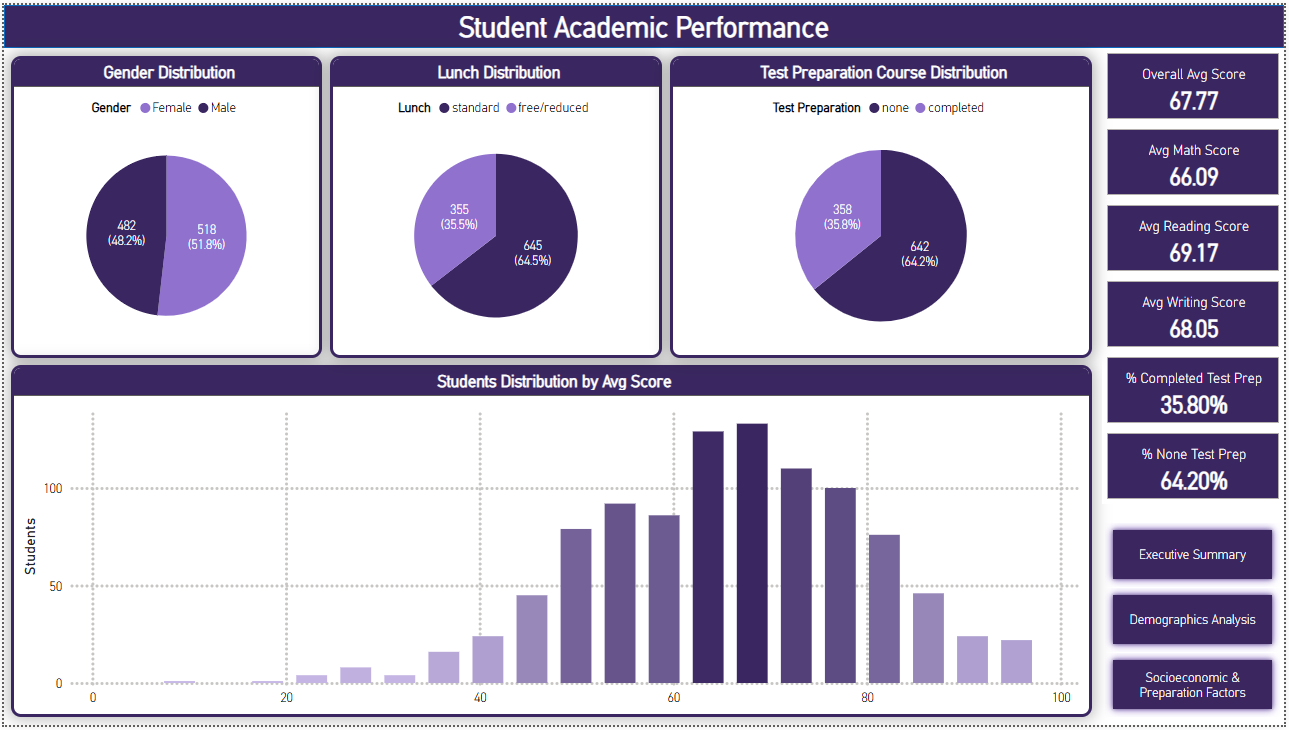

This screenshot's page, from the dashboard's own definition file:
{"tool":"powerbi","page":{"name":"Executive Summary","canvas":[1280,720],"ordinal":0},"visuals":[{"type":"shape","box":[0,0,1280,43],"z":0},{"type":"textbox","box":[426,0,428,43],"z":1000},{"type":"pieChart","title":"Gender Distribution","fields":{"Category":["StudentsPerformance.Gender"],"Y":["CountNonNull(StudentsPerformance.Gender)"]},"box":[7,51,311,302],"z":2000},{"type":"clusteredColumnChart","title":"Students Distribution by Avg Score ","fields":{"Category":["StudentsPerformance.Average Score (bins)"],"Y":["CountNonNull(StudentsPerformance.Gender)"]},"box":[7,360,1081,352],"z":3000},{"type":"cardVisual","fields":{"Data":["Avg(StudentsPerformance.Average Score)","Avg(StudentsPerformance.Math score)","Avg(StudentsPerformance.Reading score)","Avg(StudentsPerformance.Writing score)","StudentsPerformance.% Completed Test Prep","StudentsPerformance.% None Test Prep"]},"box":[1098,43,182,456],"z":8000},{"type":"pieChart","title":"Lunch Distribution","fields":{"Category":["StudentsPerformance.Lunch"],"Y":["CountNonNull(StudentsPerformance.Lunch)"]},"box":[326,51,332,302],"z":9000},{"type":"pieChart","title":"Test Preparation Course Distribution","fields":{"Category":["StudentsPerformance.Test preparation course"],"Y":["CountNonNull(StudentsPerformance.Test preparation course)"]},"box":[666,51,422,302],"z":10000},{"type":"actionButton","box":[1101,647,175,65],"z":10001},{"type":"actionButton","box":[1101,582,175,65],"z":10002},{"type":"actionButton","box":[1101,517,175,65],"z":10003}]}

Visuals, with their boxes in screenshot pixels (x1, y1, x2, y2), scaled from the page's 1280x720 canvas onto the 1289x730 screenshot:
shape: x1=0, y1=0, x2=1288, y2=44
textbox: x1=429, y1=0, x2=860, y2=44
"Gender Distribution" pieChart: x1=7, y1=52, x2=320, y2=358
"Students Distribution by Avg Score " clusteredColumnChart: x1=7, y1=365, x2=1096, y2=722
cardVisual - Avg(StudentsPerformance.Average Score) x Avg(StudentsPerformance.Math score): x1=1106, y1=44, x2=1288, y2=506
"Lunch Distribution" pieChart: x1=328, y1=52, x2=663, y2=358
"Test Preparation Course Distribution" pieChart: x1=671, y1=52, x2=1096, y2=358
actionButton: x1=1109, y1=656, x2=1285, y2=722
actionButton: x1=1109, y1=590, x2=1285, y2=656
actionButton: x1=1109, y1=524, x2=1285, y2=590
